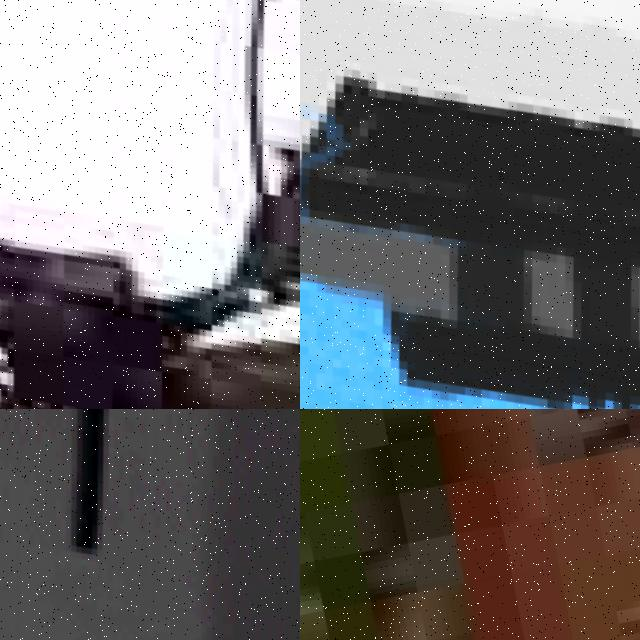drone: (300, 0, 640, 409), (0, 0, 300, 409), (0, 409, 300, 640)
